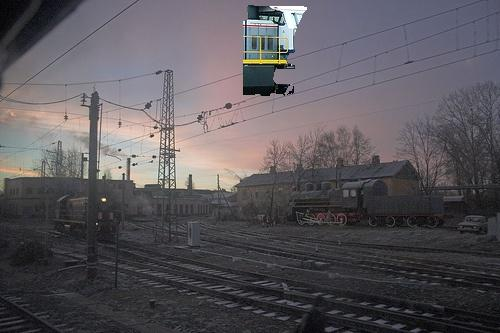tampered: (244, 6, 307, 96)
